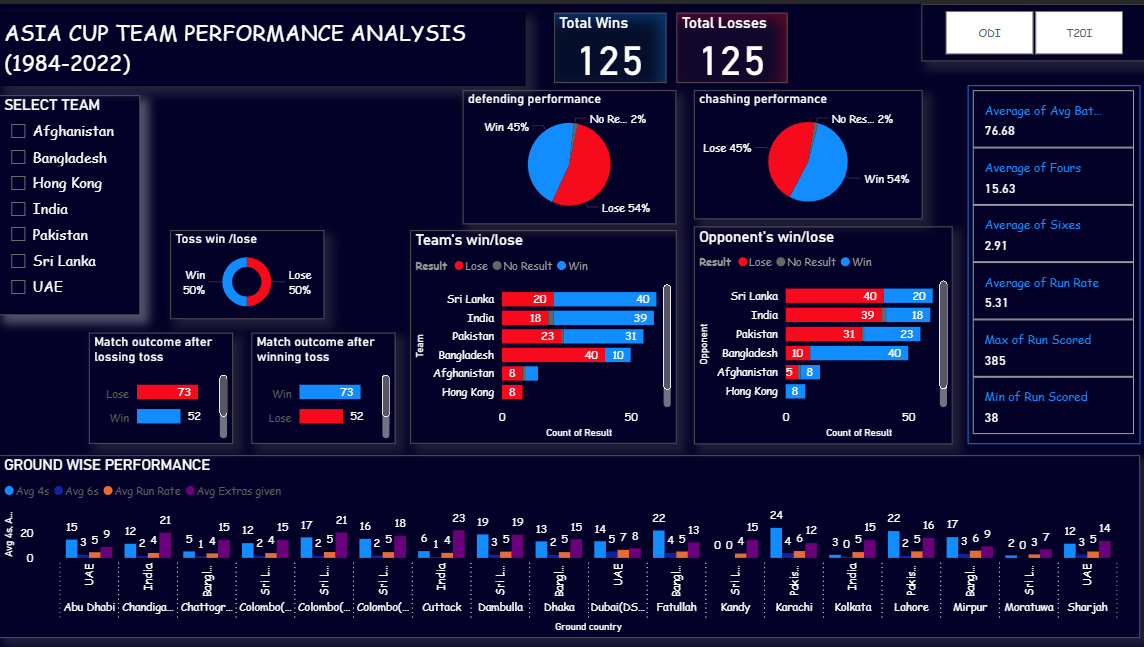

This screenshot's page, from the dashboard's own definition file:
{"tool":"powerbi","page":{"name":"TEAM PERFORMANCE","canvas":[1280,720],"ordinal":0},"visuals":[{"type":"textbox","box":[0,10.5,588.4,81.4],"z":0},{"type":"barChart","title":"Team''s win/lose","fields":{"Category":["asiacup.Team"],"Y":["CountNonNull(asiacup.Result)"],"Series":["asiacup.Result"]},"box":[459.3,252.7,297.4,238.7],"z":1000},{"type":"barChart","title":"Match outcome after winning toss","fields":{"Category":["asiacup.Result"],"Y":["CountNonNull(asiacup.Result)"]},"box":[282,367.2,160.6,124.3],"z":2000},{"type":"slicer","title":"SELECT TEAM","fields":{"Values":["asiacup.Team"]},"box":[0,101.9,157.8,245.7],"z":3000},{"type":"barChart","title":"Match outcome after lossing toss","fields":{"Category":["asiacup.Result"],"Y":["CountNonNull(asiacup.Result)"]},"box":[100.5,367.2,160.6,124.3],"z":4000},{"type":"clusteredColumnChart","title":"GROUND WISE PERFORMANCE","fields":{"Category":["asiacup.Ground","asiacup.Ground country"],"Y":["Avg(asiacup.Fours)","Avg(asiacup.Sixes)","Avg(asiacup.Run Rate)","Avg(asiacup.Given Extras)"]},"box":[0,504,1274.7,203.8],"z":5000},{"type":"cardVisual","fields":{"Data":["Avg(asiacup.Avg Bat Strike Rate)","Avg(asiacup.Fours)","Avg(asiacup.Sixes)","Avg(asiacup.Run Rate)","Max(asiacup.Run Scored)","Min(asiacup.Run Scored)1"]},"box":[1082,90.8,192.7,399.3],"z":7000},{"type":"barChart","title":"Opponent''s win/lose","fields":{"Y":["CountNonNull(asiacup.Result)"],"Series":["asiacup.Result"],"Category":["asiacup.Opponent"]},"box":[776.3,248.5,289,242.9],"z":8000},{"type":"slicer","fields":{"Values":["asiacup.Format"]},"box":[1030.4,0,249.9,64.2],"z":9000},{"type":"card","title":"Total Wins","fields":{"Values":["asiacup.total wins"]},"box":[619.9,9.8,125.7,78.2],"z":10000},{"type":"card","title":"Total Losses","fields":{"Values":["asiacup.total loses"]},"box":[756.7,9.8,124.3,78.2],"z":11000},{"type":"donutChart","title":"Toss win /lose","fields":{"Category":["asiacup.Toss"],"Y":["CountNonNull(asiacup.Team)"]},"box":[191.3,252.7,171.7,99.1],"z":12000},{"type":"pieChart","title":"defending performance","fields":{"Y":["CountNonNull(asiacup.Result)"],"Category":["asiacup.Result"]},"box":[518,96.3,238.7,149.4],"z":13000},{"type":"pieChart","title":"chashing performance","fields":{"Y":["CountNonNull(asiacup.Result)"],"Category":["asiacup.Result"]},"box":[776.3,96.3,255.5,143.8],"z":14000}]}

Visuals, with their boxes in screenshot pixels (x1, y1, x2, y2), scaled from the page's 1280x720 canvas onto the 1144x647 screenshot:
textbox: <bbox>0, 9, 526, 83</bbox>
"Team''s win/lose" barChart: <bbox>410, 227, 676, 442</bbox>
"Match outcome after winning toss" barChart: <bbox>252, 330, 396, 442</bbox>
"SELECT TEAM" slicer: <bbox>0, 92, 141, 312</bbox>
"Match outcome after lossing toss" barChart: <bbox>90, 330, 233, 442</bbox>
"GROUND WISE PERFORMANCE" clusteredColumnChart: <bbox>0, 453, 1139, 636</bbox>
cardVisual - Avg(asiacup.Avg Bat Strike Rate) x Avg(asiacup.Fours): <bbox>967, 82, 1139, 440</bbox>
"Opponent''s win/lose" barChart: <bbox>694, 223, 952, 442</bbox>
slicer - asiacup.Format: <bbox>921, 0, 1143, 58</bbox>
"Total Wins" card: <bbox>554, 9, 666, 79</bbox>
"Total Losses" card: <bbox>676, 9, 787, 79</bbox>
"Toss win /lose" donutChart: <bbox>171, 227, 324, 316</bbox>
"defending performance" pieChart: <bbox>463, 87, 676, 221</bbox>
"chashing performance" pieChart: <bbox>694, 87, 922, 216</bbox>
